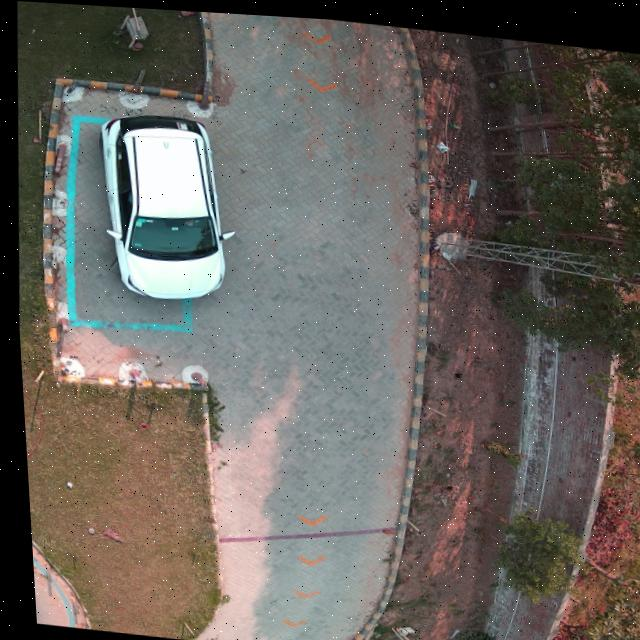car: (96, 113, 223, 298)
